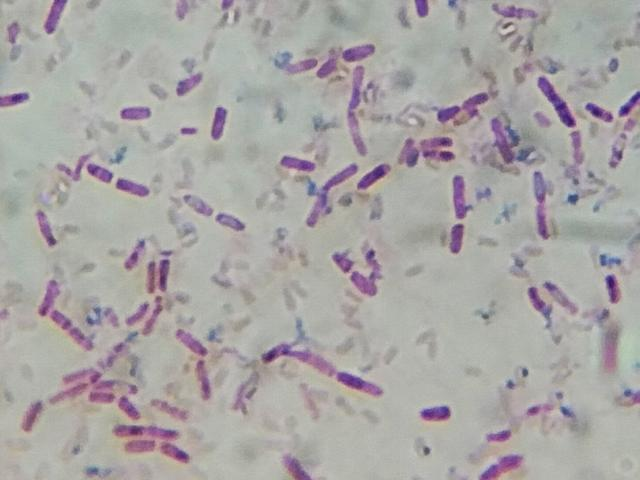E. coli: (535, 75, 578, 138), (348, 68, 377, 156), (333, 250, 381, 302), (264, 344, 336, 376), (52, 310, 101, 355), (525, 168, 551, 248), (488, 107, 519, 171), (447, 175, 470, 260), (438, 90, 487, 129), (474, 452, 532, 480), (412, 399, 459, 432), (122, 442, 192, 463), (339, 370, 383, 402), (112, 420, 177, 439), (167, 71, 208, 101), (116, 172, 153, 205), (362, 158, 393, 197), (304, 190, 329, 236), (15, 399, 43, 440), (277, 449, 313, 480), (32, 280, 63, 315), (582, 98, 613, 133), (2, 84, 36, 115), (150, 396, 188, 423), (41, 0, 68, 38), (278, 151, 316, 178), (217, 208, 248, 241), (33, 208, 57, 249), (422, 137, 457, 165), (84, 155, 112, 189), (194, 359, 214, 405), (210, 101, 232, 142), (182, 190, 212, 220), (179, 327, 211, 355), (325, 160, 356, 188), (282, 54, 319, 77), (615, 84, 640, 118), (50, 384, 90, 405), (340, 39, 379, 60), (120, 237, 146, 267), (122, 102, 150, 129), (400, 137, 425, 167), (317, 60, 345, 84), (486, 425, 513, 449), (98, 376, 136, 392), (402, 0, 433, 19), (159, 254, 172, 293), (146, 305, 162, 335), (146, 261, 161, 292), (117, 395, 137, 418), (67, 367, 97, 382), (89, 390, 112, 405), (128, 301, 144, 322), (308, 124, 309, 126)
